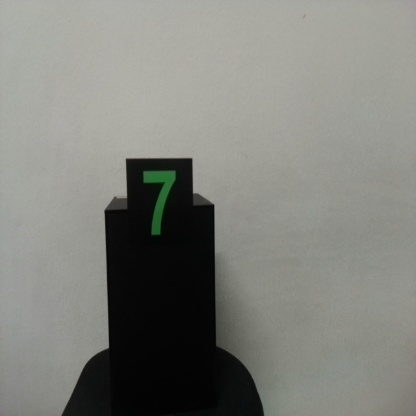id_7: (126, 160, 194, 256)
